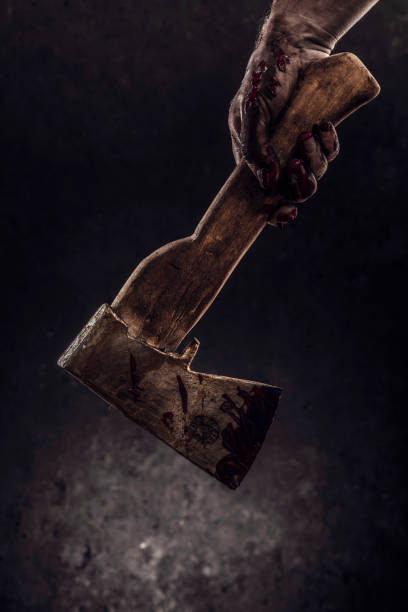handguns: (49, 0, 382, 523)
